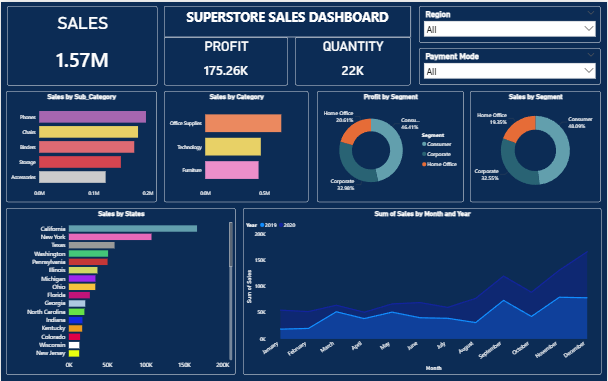

This screenshot's page, from the dashboard's own definition file:
{"tool":"powerbi","page":{"name":"Page 1","canvas":[1514,951],"ordinal":0},"visuals":[{"type":"clusteredBarChart","title":"Sales by Category","fields":{"Y":["Sum(SuperStore Sales DataSet xlsx (2).Sales)"],"Category":["SuperStore Sales DataSet xlsx (2).Category"]},"box":[407,222.5,361.4,277.7],"z":0},{"type":"clusteredBarChart","title":"Sales by Sub_Category","fields":{"Y":["Sum(SuperStore Sales DataSet xlsx (2).Sales)"],"Category":["SuperStore Sales DataSet xlsx (2).Sub-Category"]},"box":[13.3,222.5,376.6,277.7],"z":1000},{"type":"clusteredBarChart","title":"Sales by States","fields":{"Y":["Sum(SuperStore Sales DataSet xlsx (2).Sales)"],"Category":["SuperStore Sales DataSet xlsx (2).State"]},"box":[12.6,515.5,574.4,416.6],"z":2000},{"type":"donutChart","title":"Profit by Segment","fields":{"Category":["SuperStore Sales DataSet xlsx (2).Segment"],"Y":["Sum(SuperStore Sales DataSet xlsx (2).Profit)"]},"box":[790.6,221.7,367.3,277.7],"z":3000},{"type":"donutChart","title":"Sales by Segment","fields":{"Category":["SuperStore Sales DataSet xlsx (2).Segment"],"Y":["Sum(SuperStore Sales DataSet xlsx (2).Sales)"]},"box":[1173.6,221.7,327,277.7],"z":4000},{"type":"areaChart","fields":{"Y":["Sum(SuperStore Sales DataSet xlsx (2).Sales)"],"Category":["SuperStore Sales DataSet xlsx (2).Order Date.Variation.Date Hierarchy.Month","SuperStore Sales DataSet xlsx (2).Order Date.Variation.Date Hierarchy.Day"],"Series":["SuperStore Sales DataSet xlsx (2).Order Date.Variation.Date Hierarchy.Year"]},"box":[603.8,515.5,896.3,416.6],"z":5000},{"type":"textbox","box":[406.9,9.5,617.4,78.1],"z":6000},{"type":"cardVisual","title":"SALES","fields":{"Data":["Sum(SuperStore Sales DataSet xlsx (2).Sales)"]},"box":[14.2,9.5,376.1,198.7],"z":7000},{"type":"cardVisual","title":"QUANTITY","fields":{"Data":["Sum(SuperStore Sales DataSet xlsx (2).Quantity)"]},"box":[735.7,87.5,288.6,120.6],"z":8000},{"type":"cardVisual","title":"PROFIT","fields":{"Data":["Sum(SuperStore Sales DataSet xlsx (2).Profit)"]},"box":[406.9,87.5,309.9,120.6],"z":9000},{"type":"slicer","fields":{"Values":["SuperStore Sales DataSet xlsx (2).Payment Mode"]},"box":[1045.6,115.9,454.2,92.3],"z":10000},{"type":"slicer","fields":{"Values":["SuperStore Sales DataSet xlsx (2).Region"]},"box":[1045.6,9.5,454.2,92.3],"z":11000}]}

Visuals, with their boxes in screenshot pixels (x1, y1, x2, y2), scaled from the page's 1514x951 canvas onto the 608x381 screenshot:
"Sales by Category" clusteredBarChart: 163 89 309 200
"Sales by Sub_Category" clusteredBarChart: 5 89 157 200
"Sales by States" clusteredBarChart: 5 207 236 373
"Profit by Segment" donutChart: 317 89 465 200
"Sales by Segment" donutChart: 471 89 603 200
areaChart - Sum(SuperStore Sales DataSet xlsx (2).Sales) x SuperStore Sales DataSet xlsx (2).Order Date.Variation.Date Hierarchy.Month: 242 207 602 373
textbox: 163 4 411 35
"SALES" cardVisual: 6 4 157 83
"QUANTITY" cardVisual: 295 35 411 83
"PROFIT" cardVisual: 163 35 288 83
slicer - SuperStore Sales DataSet xlsx (2).Payment Mode: 420 46 602 83
slicer - SuperStore Sales DataSet xlsx (2).Region: 420 4 602 41
